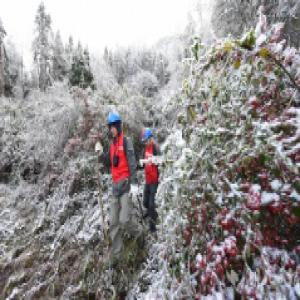blue: (106, 110, 123, 138), (141, 129, 153, 148)
